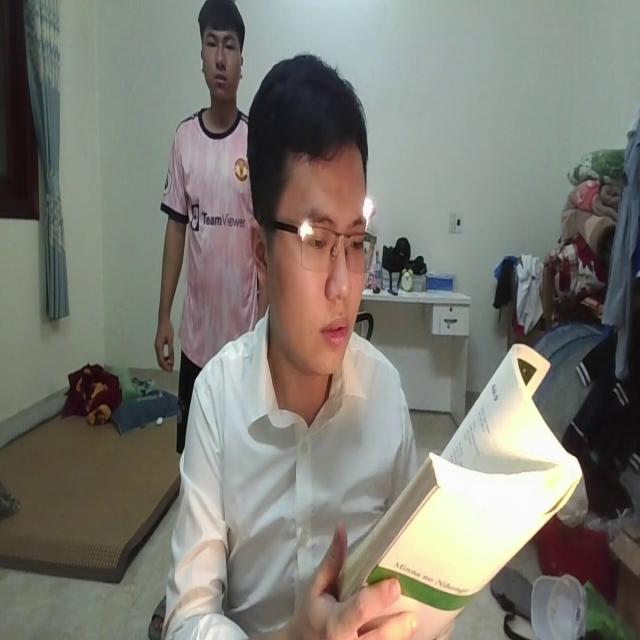book: (332, 342, 584, 616)
extra_person: (150, 1, 272, 466)
student: (166, 55, 422, 640)
